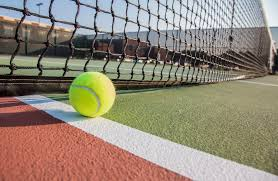tennis_ball: (68, 70, 116, 119)
